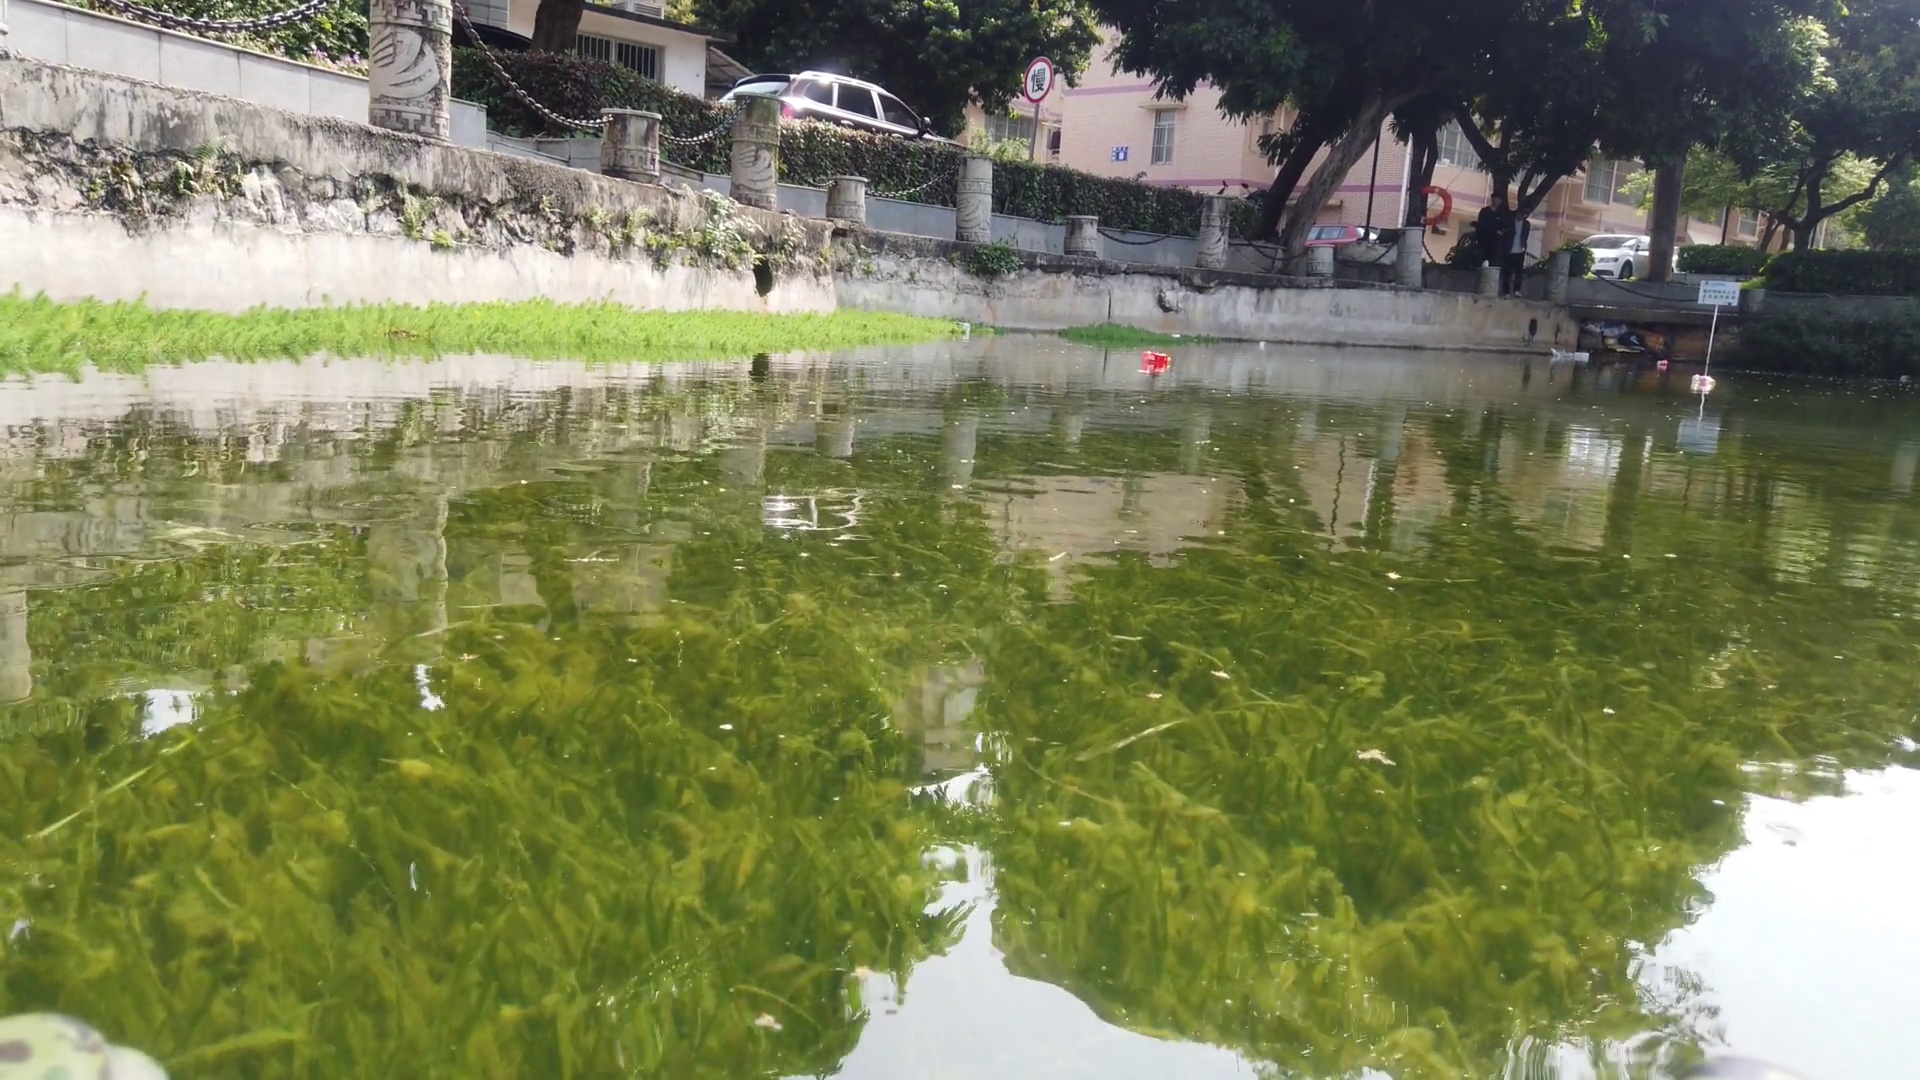bottle: (1138, 349, 1174, 367), (1688, 373, 1717, 390), (1654, 356, 1667, 371)
carton: (949, 320, 975, 338), (1572, 348, 1592, 363), (1255, 339, 1269, 351)
plastic: (1549, 343, 1568, 360)
